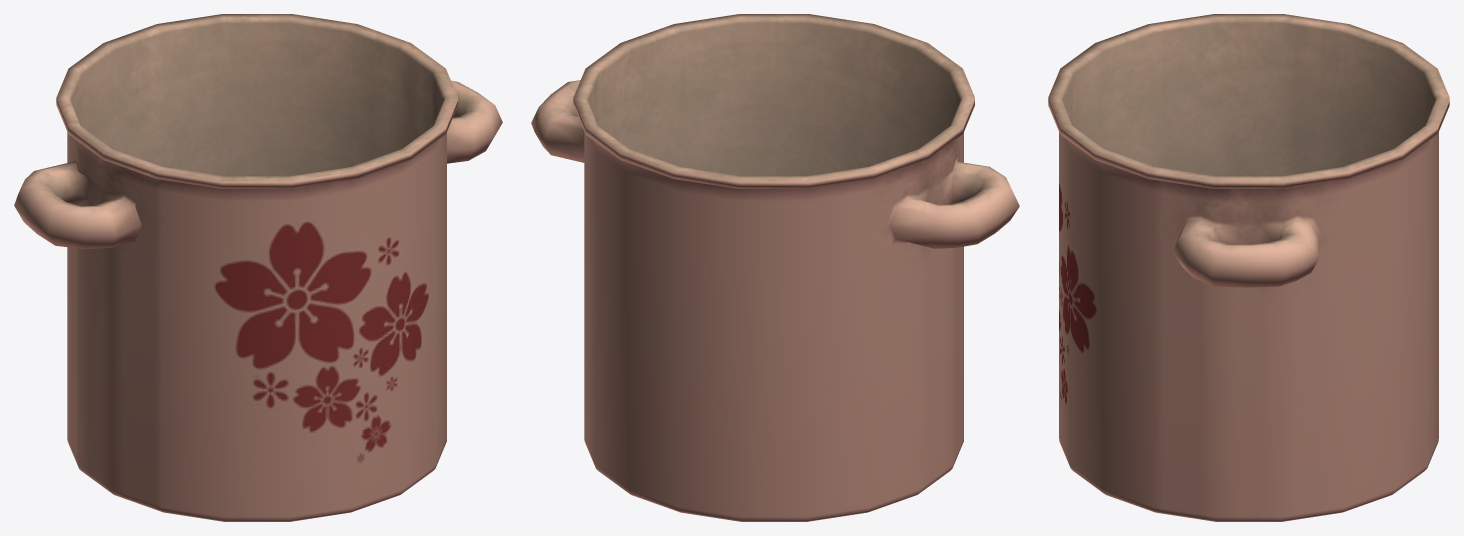
Rendered from pot.obj.
The picture shows the model from 3 angles, left to right: view 1: azimuth 30°, elevation 25°; view 2: azimuth 150°, elevation 25°; view 3: azimuth 270°, elevation 25°; orthographic projection.
Parts seen in each view (by area): view 1: obj1; view 2: obj1; view 3: obj1.
Part boxes in pixels (x1=…): obj1: x1=14, y1=14, x2=502, y2=521; obj1: x1=531, y1=14, x2=1019, y2=521; obj1: x1=1048, y1=14, x2=1449, y2=521.
Size of the model in its own units: 22.37 by 16.25 by 17.07.
Materials: 1 (1 with a texture image).
